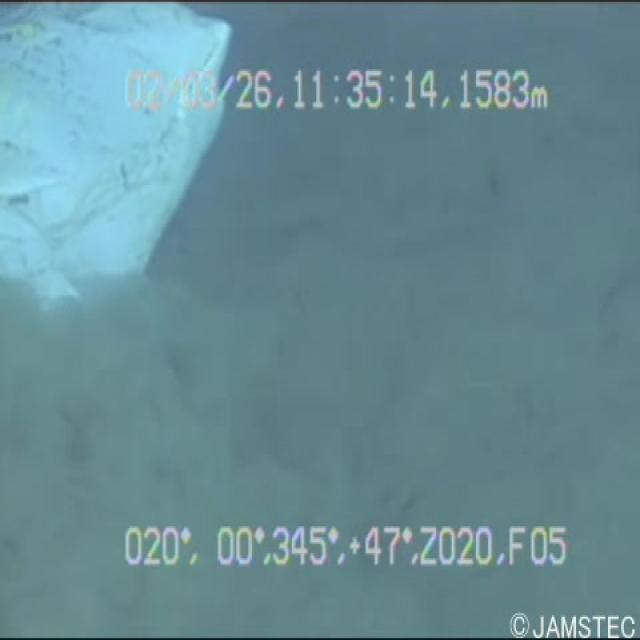plastic: (0, 0, 253, 307)
